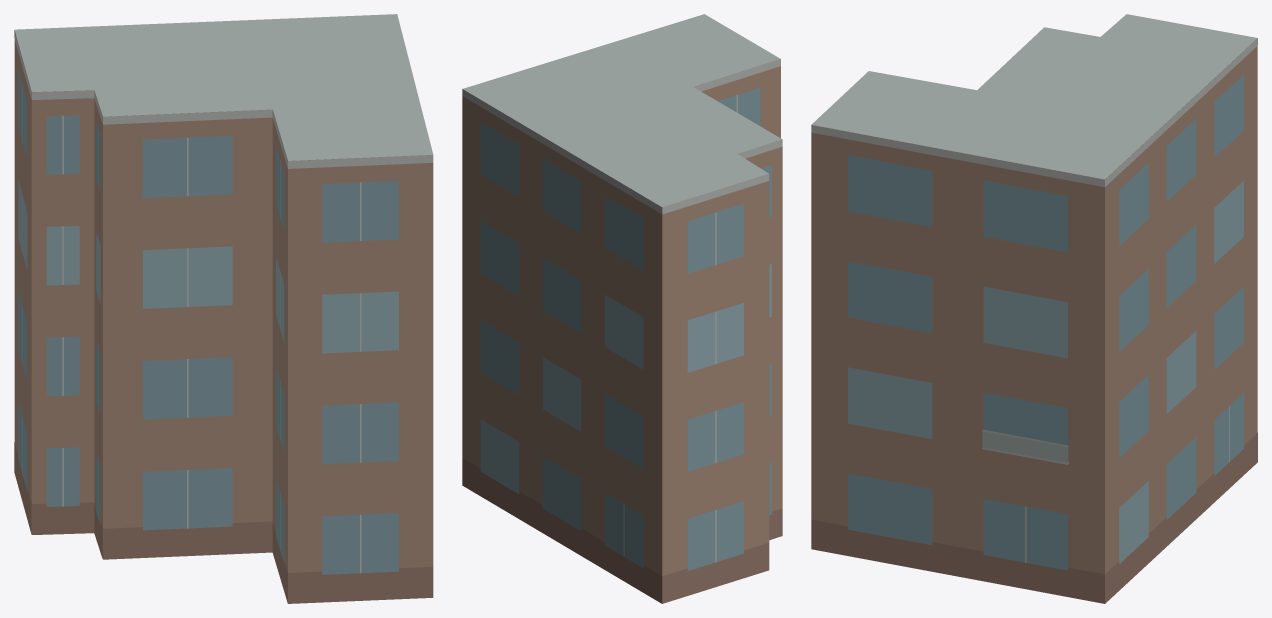
File: survey-upis-32972215.glb
3 renders of one model, left to right at view 1: azimuth 30°, elevation 25°; view 2: azimuth 150°, elevation 25°; view 3: azimuth 270°, elevation 25°, orthographic. The views are drawn at different scales.
Parts seen in each view (by area): view 1: survey-upis-32972215.tmp; view 2: survey-upis-32972215.tmp; view 3: survey-upis-32972215.tmp.
Part boxes in pixels (x1,y1,x2,y2): survey-upis-32972215.tmp: (14,14,433,603); survey-upis-32972215.tmp: (462,14,782,603); survey-upis-32972215.tmp: (811,14,1257,603).
Bounding box in the file's own units: 11.31 × 13.5 × 12.89.
